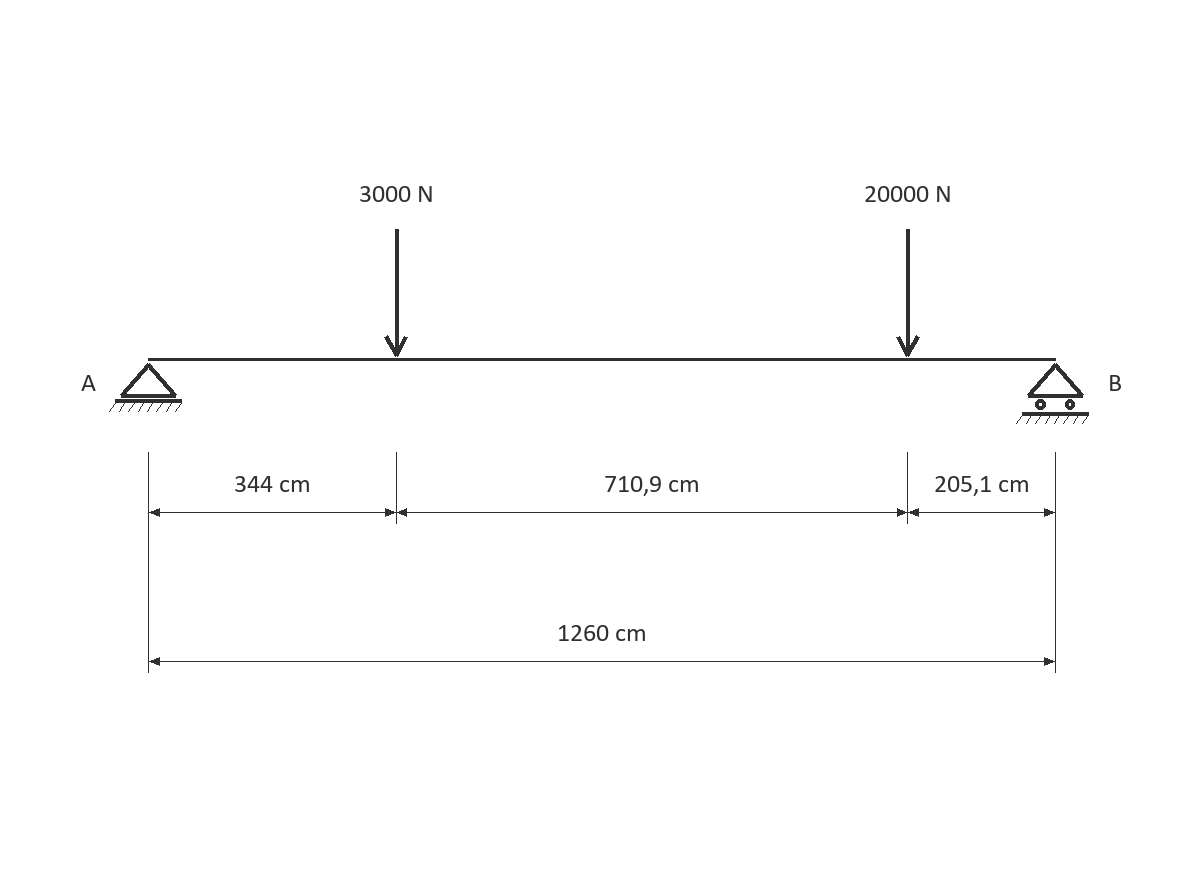pin_support: (109, 363, 182, 412)
point_load: (384, 229, 408, 357), (896, 229, 920, 357)
roller_support: (1016, 363, 1089, 424)
